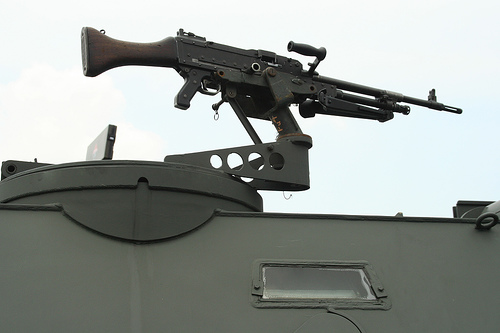rifle: (73, 13, 472, 173)
